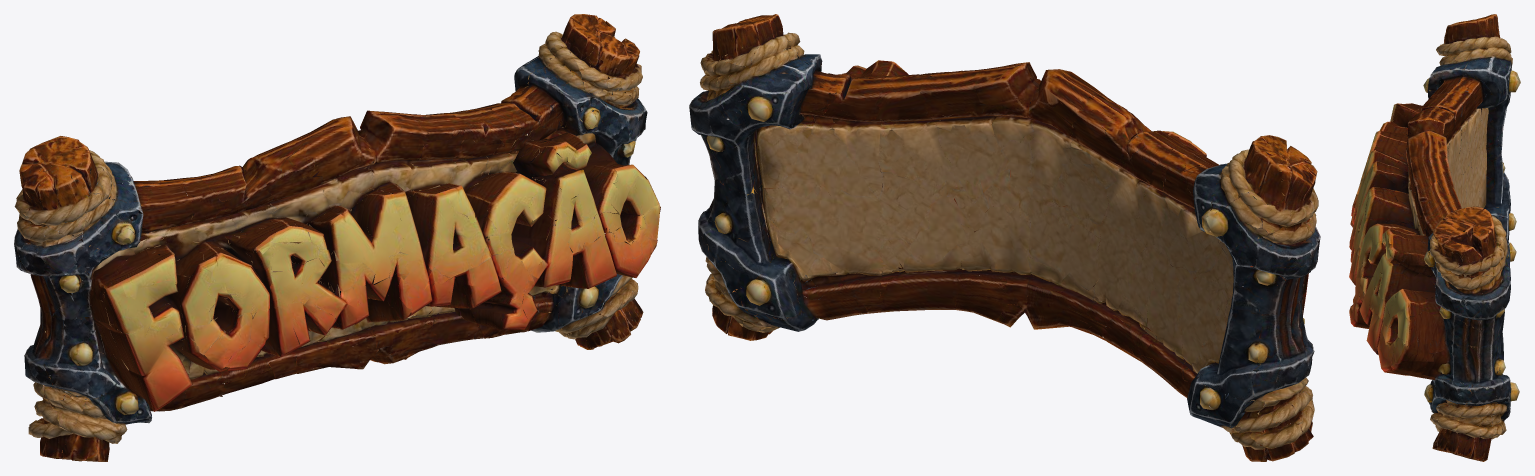
File: title_formacao.glb
3 renders of one model, left to right at view 1: azimuth 30°, elevation 25°; view 2: azimuth 150°, elevation 25°; view 3: azimuth 270°, elevation 25°, orthographic. The views are drawn at different scales.
Parts seen in each view (by area): view 1: Mesh_0; view 2: Mesh_0; view 3: Mesh_0.
Part boxes in pixels (<box>): Mesh_0: <box>14,14,660,461</box>; Mesh_0: <box>689,14,1320,461</box>; Mesh_0: <box>1349,14,1520,461</box>.
Size of the model in its own units: 1.9 by 0.9488 by 0.597.
1 material, 1 textured.
